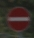No entry: (6, 6, 29, 33)
